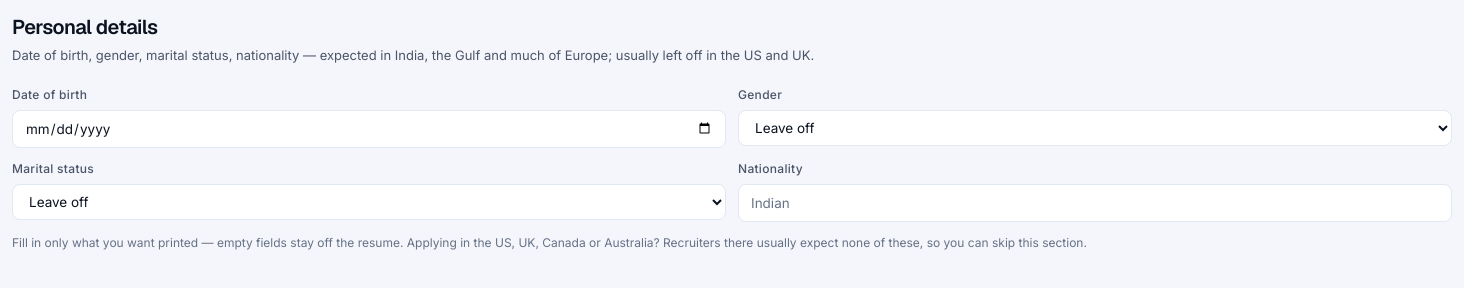
Scenario: PersonalDetailsForm — saved values › waits for blur before flagging what the user is typing now
The width and height of the screenshot is (1464, 288).
In the dropdown labelled "Nationality": (1095, 203) [738, 184, 1452, 222], type "Indian1"
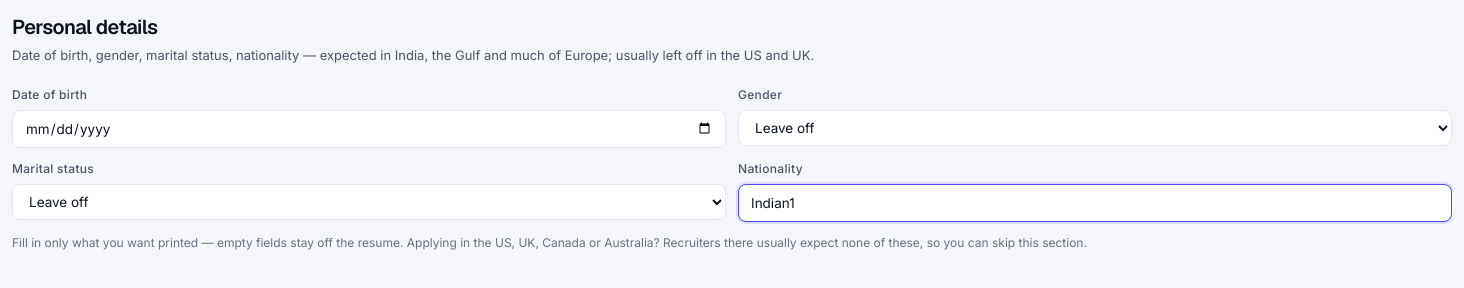
Expected: the text "Use letters only, like “Indian”." is not shown
Leave the dropdown labelled "Nationality", box [738, 184, 1452, 222]
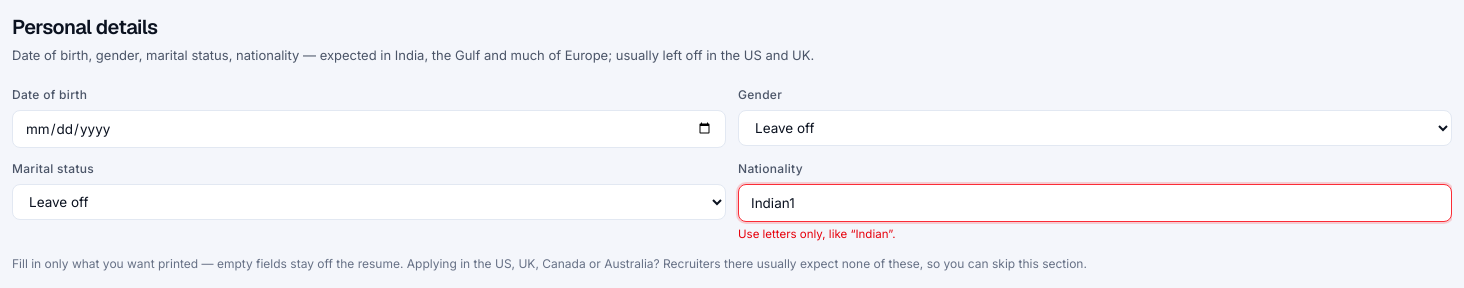
Expected: the text "Use letters only, like “Indian”." is shown, [738, 227, 896, 241]
